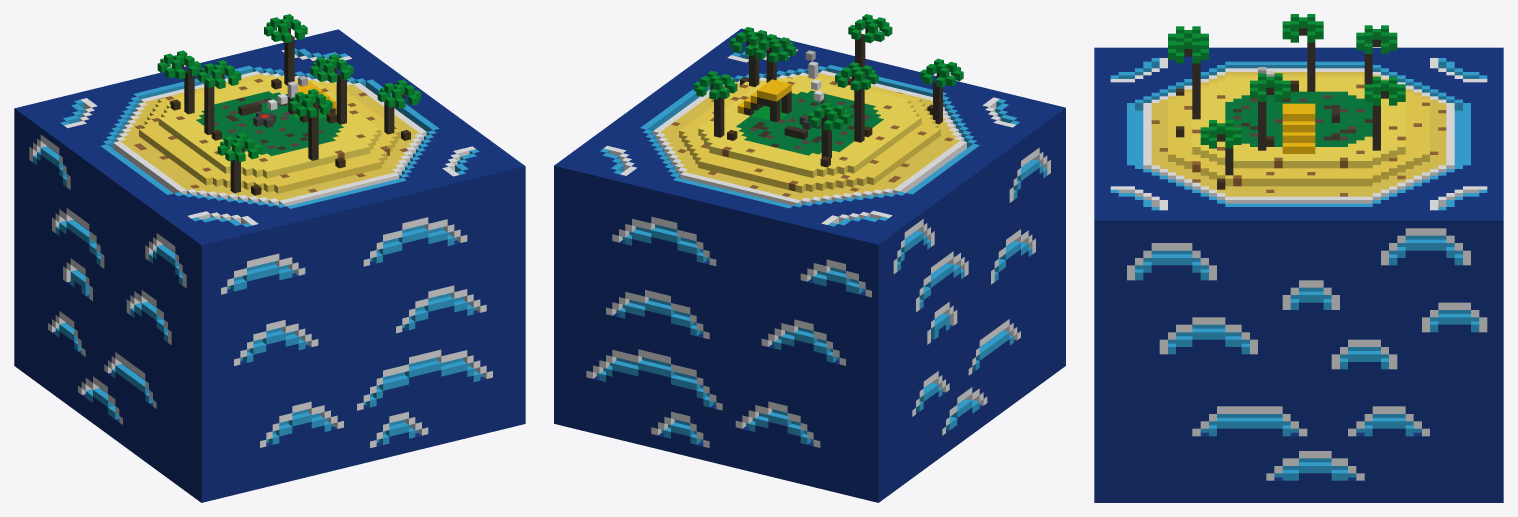
File: wall10.obj
3 renders of one model, left to right at view 1: azimuth 30°, elevation 25°; view 2: azimuth 150°, elevation 25°; view 3: azimuth 270°, elevation 25°, orthographic. The views are drawn at different scales.
Size of the model in its own units: 5 by 5 by 5.
Materials: 1 (1 with a texture image).
